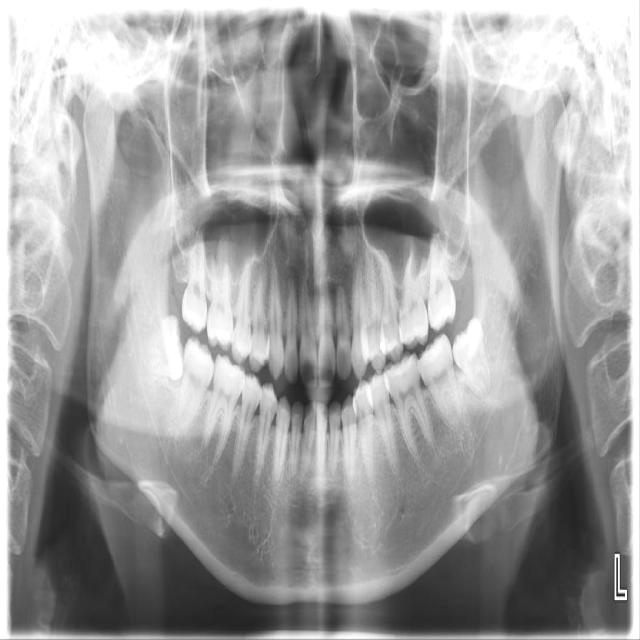impacted tooth: (125, 317, 184, 379), (454, 319, 492, 397)
